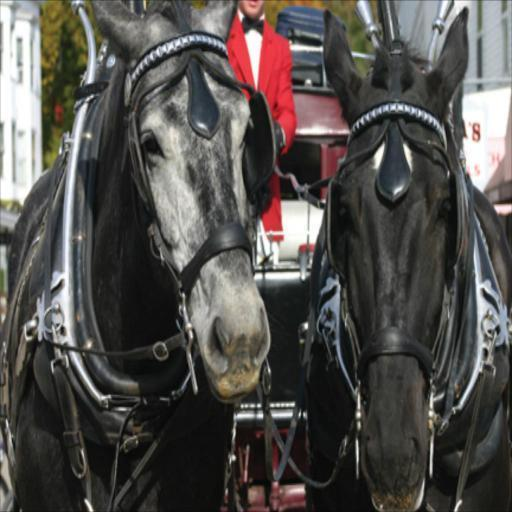horse: (1, 0, 273, 510), (307, 7, 511, 510)
